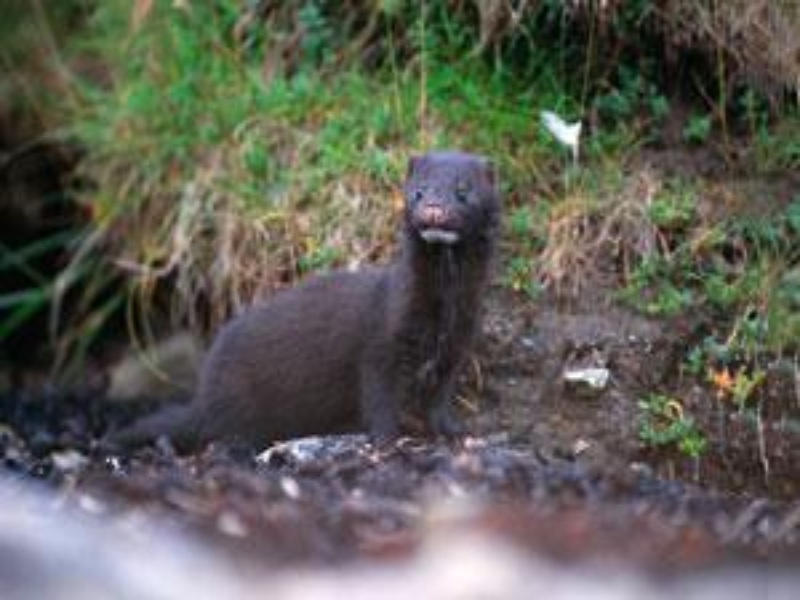minkish: (100, 151, 505, 462)
